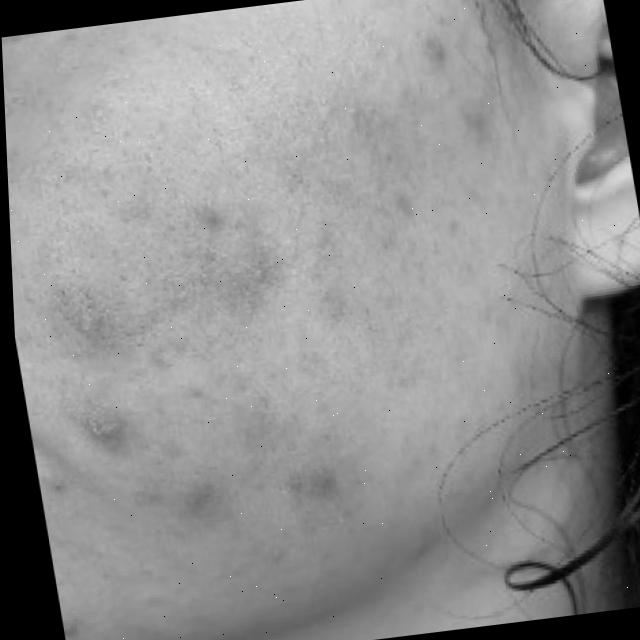Acne: (19, 217, 409, 558)
